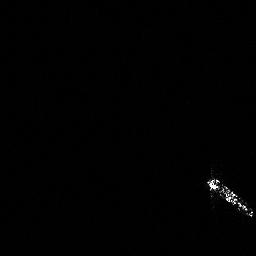ship: (202, 167, 256, 222)
